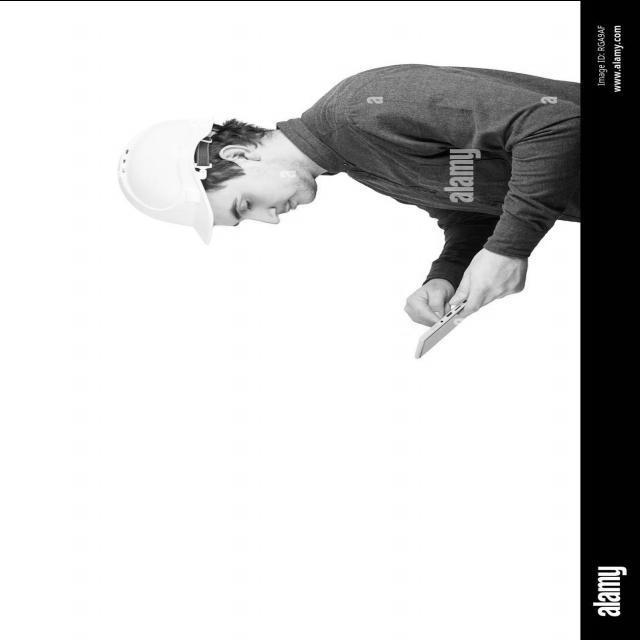safety_helmet: (121, 114, 218, 246)
